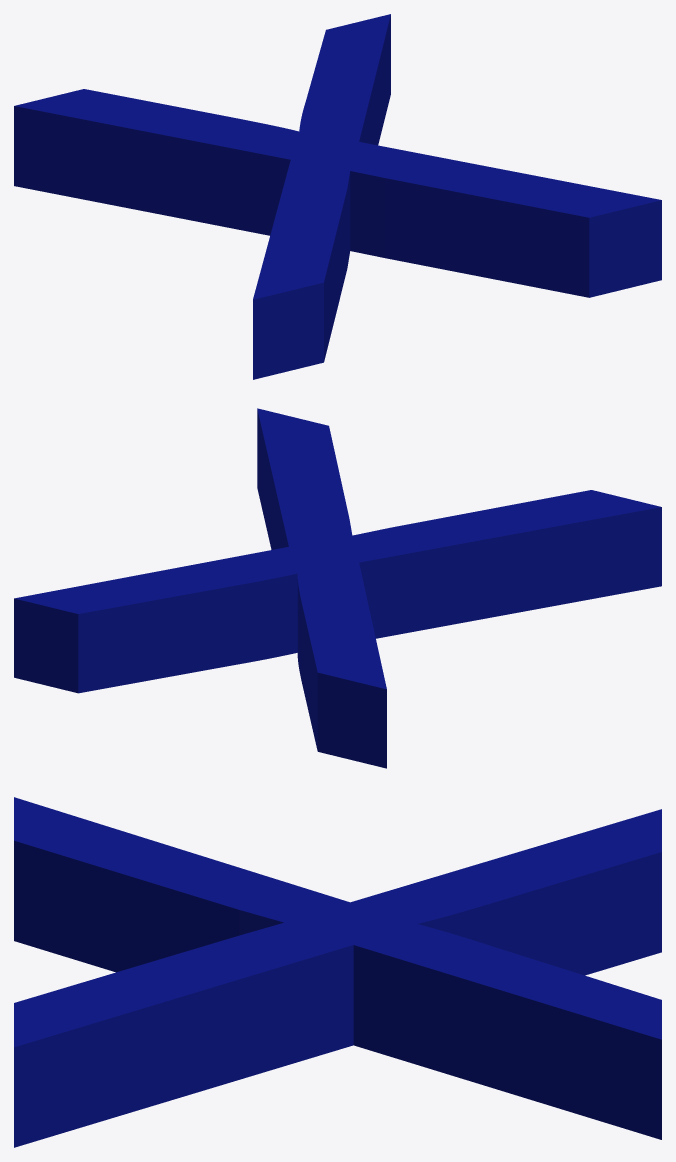
3 renders of one model, top to bottom at view 1: azimuth 30°, elevation 25°; view 2: azimuth 150°, elevation 25°; view 3: azimuth 270°, elevation 25°, orthographic. The views are drawn at different scales.
Visible parts, largest first — view 1: TextPlus024; view 2: TextPlus024; view 3: TextPlus024.
Boxes of the visible parts, left/top/right/bottom form: TextPlus024: left=14, top=14, right=661, bottom=379; TextPlus024: left=14, top=408, right=661, bottom=768; TextPlus024: left=14, top=797, right=661, bottom=1147.
Bounding box in the file's own units: 23.44 × 4.38 × 25.64.
